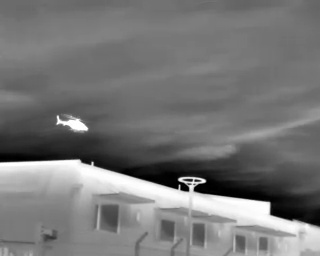HELICOPTER: (50, 107, 94, 139)
